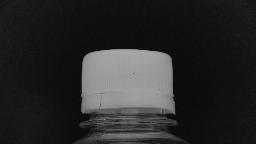Broken Ring: (90, 90, 114, 114)
Loose Cap: (74, 86, 184, 130)
